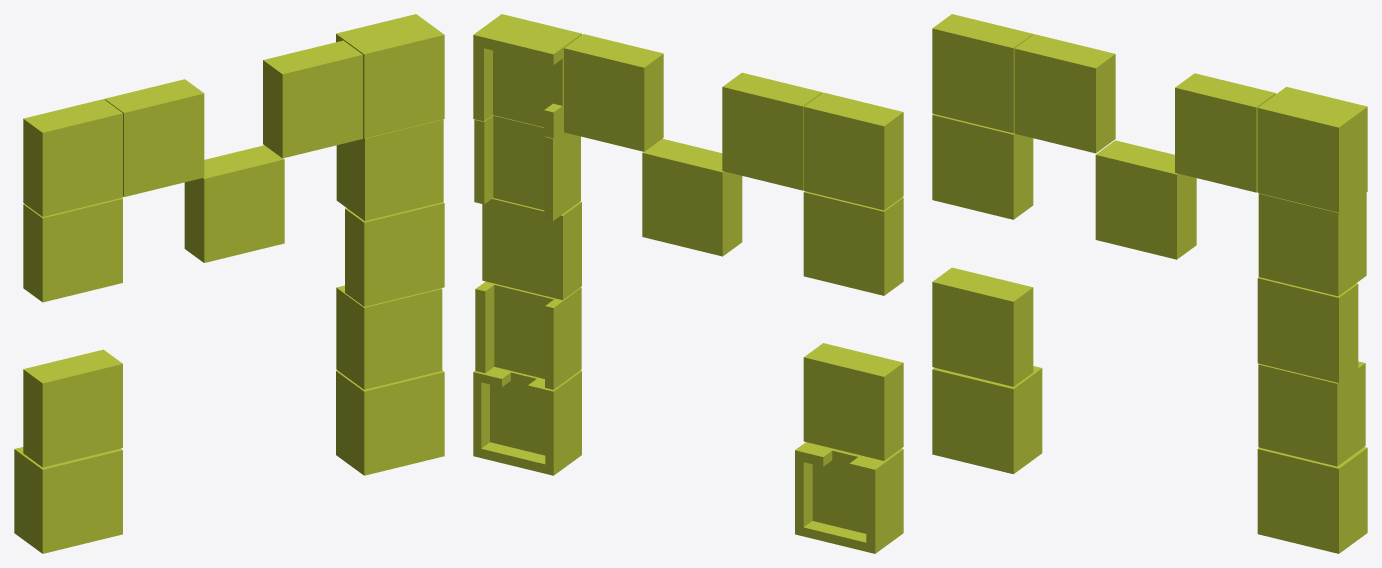
File: Stage7.fbx
3 views of the same model, side by side, from view 1: azimuth 30°, elevation 25°; view 2: azimuth 150°, elevation 25°; view 3: azimuth 330°, elevation 25° (orthographic).
Visible parts, largest first — view 1: Cube; view 2: Cube; view 3: Cube.
Boxes of the visible parts, x1=… form: Cube: x1=14, y1=14, x2=444, y2=553; Cube: x1=473, y1=14, x2=903, y2=553; Cube: x1=932, y1=14, x2=1367, y2=553.
Size of the model in its own units: 1000 by 1002 by 123.
